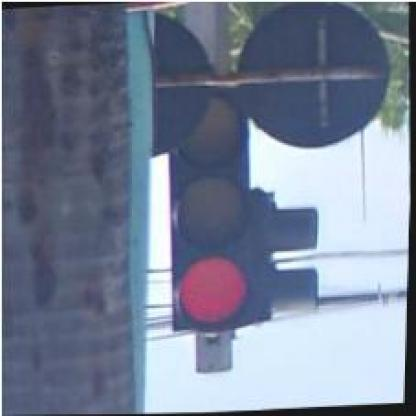red: (161, 94, 260, 332)
